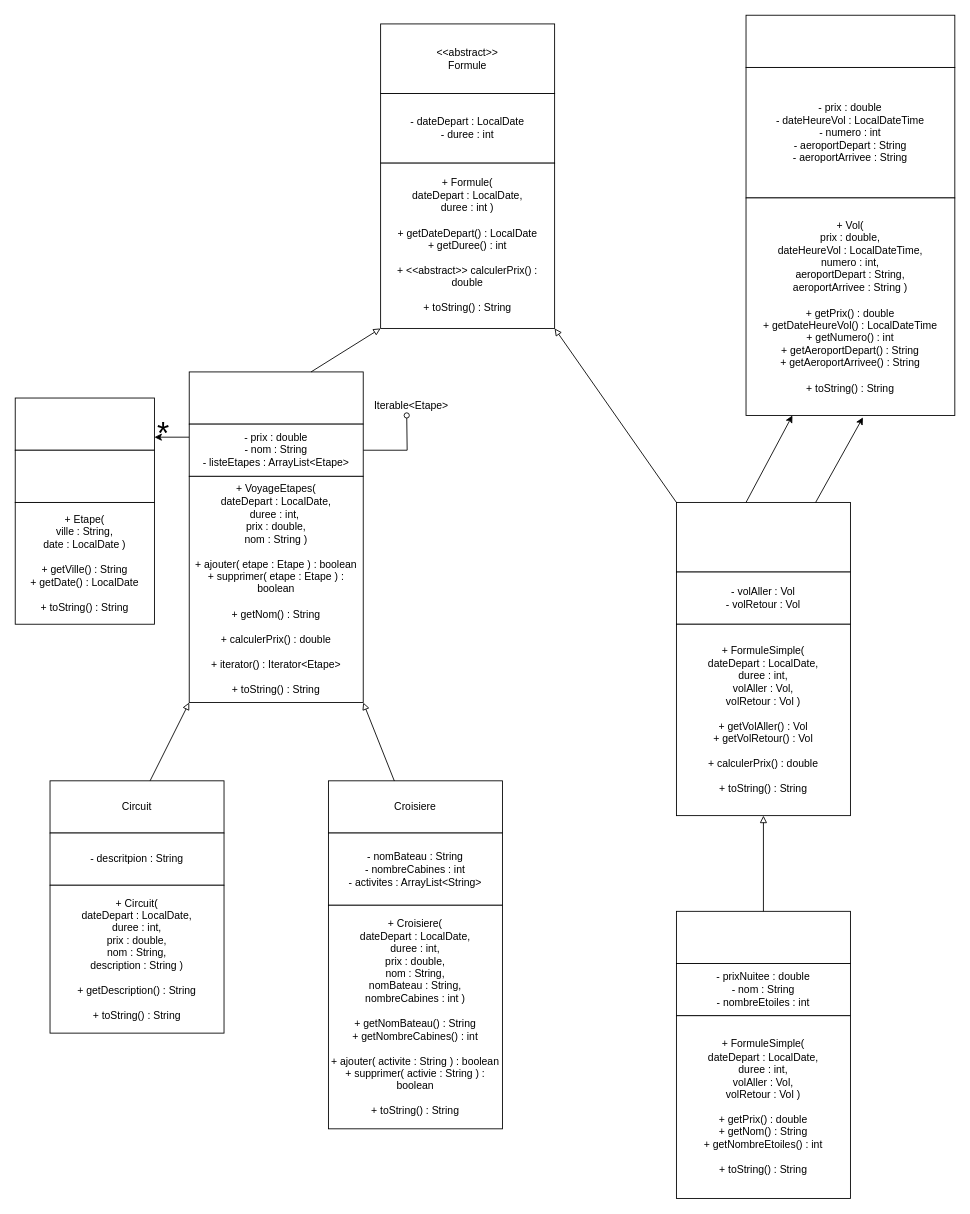
Image size: 970x1214. Some labels were removed from this diagram. Each missing label, with the centre of its shape:
- ville : String - date : LocalDate: the point at 84,475
<<abstract>> VoyageOrganise: the point at 275,397
Etape: the point at 84,423
FormuleSimple: the point at 763,537
Sejour: the point at 763,937
Vol: the point at 850,40
